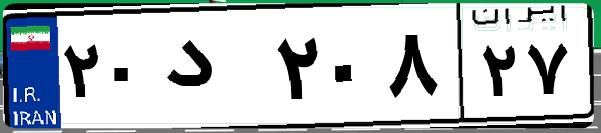0: (330, 28, 385, 110), (110, 28, 158, 98)
2: (270, 28, 330, 110), (57, 26, 110, 100), (475, 38, 525, 113)
7: (525, 38, 570, 115)
8: (385, 28, 445, 110)
د: (158, 20, 270, 120)
